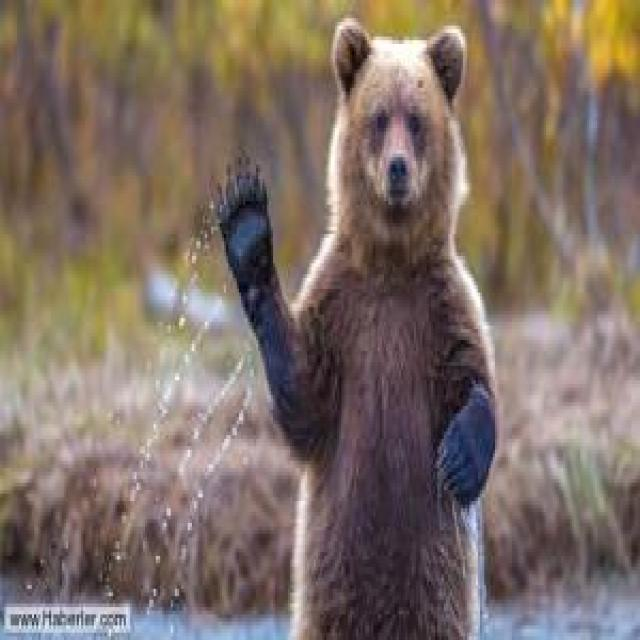Bear: (218, 18, 501, 640)
